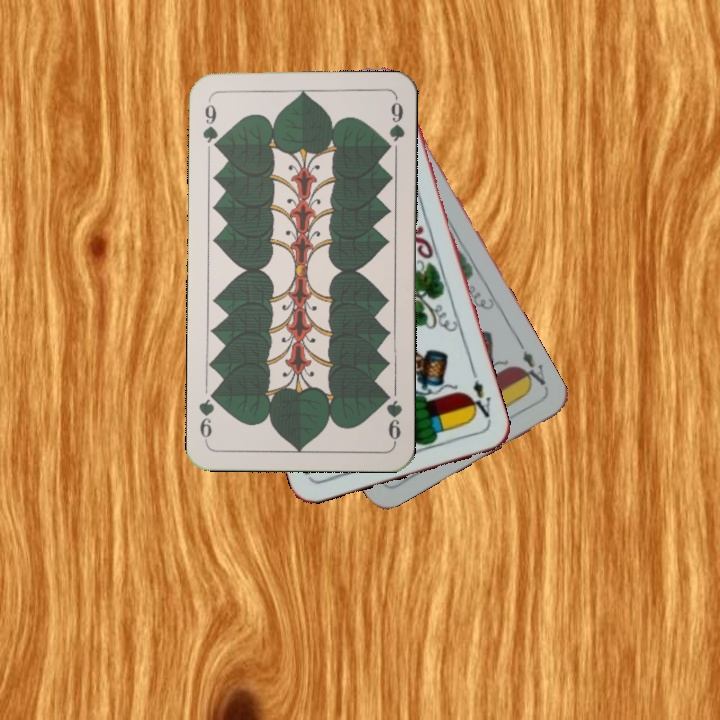EA: (464, 367, 494, 425), (514, 346, 549, 391)
G9: (379, 386, 404, 446), (198, 95, 222, 154)
